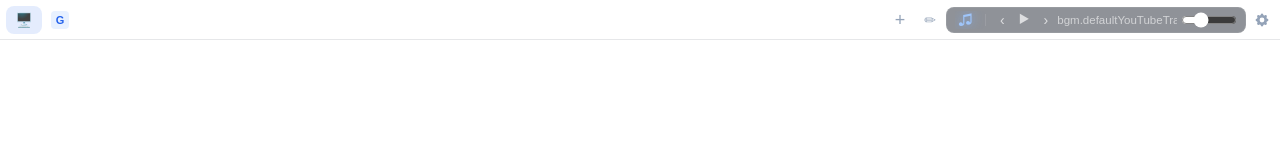
Scenario: AppBar — edit mode (#295) › in edit mode, ✕ delete button appears on each shortcut
# Enter edit mode
Click the button with class "app-bar-edit": (930, 20) top-left (916, 6), bottom-right (944, 34)
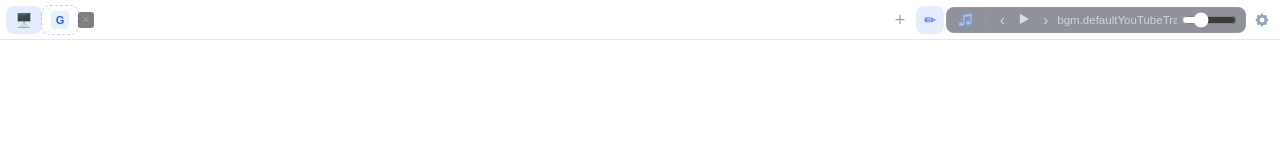
Now the button titled "바로가기 삭제" is shown, box top-left (78, 12), bottom-right (94, 28)
